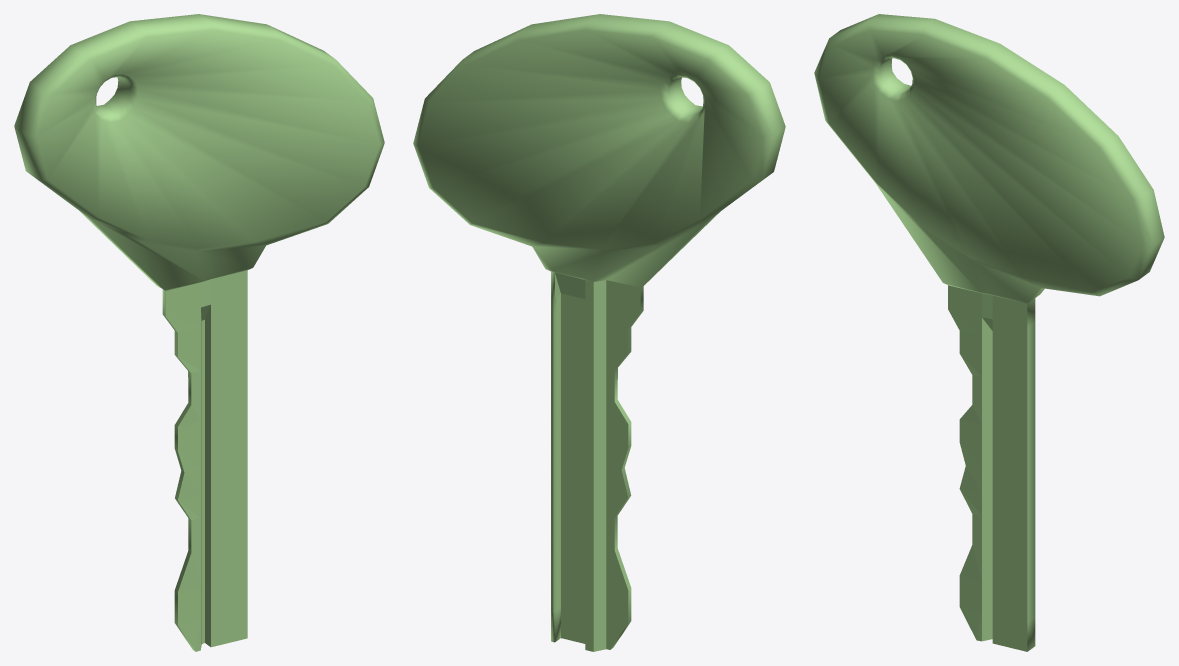
Rendered from Keys_19.FBX.
3 views of the same model, side by side, from view 1: azimuth 30°, elevation 25°; view 2: azimuth 150°, elevation 25°; view 3: azimuth 330°, elevation 25° (orthographic). The views are drawn at different scales.
Visible parts, largest first — view 1: Keys_19; view 2: Keys_19; view 3: Keys_19.
Boxes of the visible parts, x1=… form: Keys_19: x1=14, y1=14, x2=384, y2=651; Keys_19: x1=413, y1=14, x2=785, y2=651; Keys_19: x1=814, y1=14, x2=1164, y2=651.
Size of the model in its own units: 1.3 by 2.2 by 0.1244.
